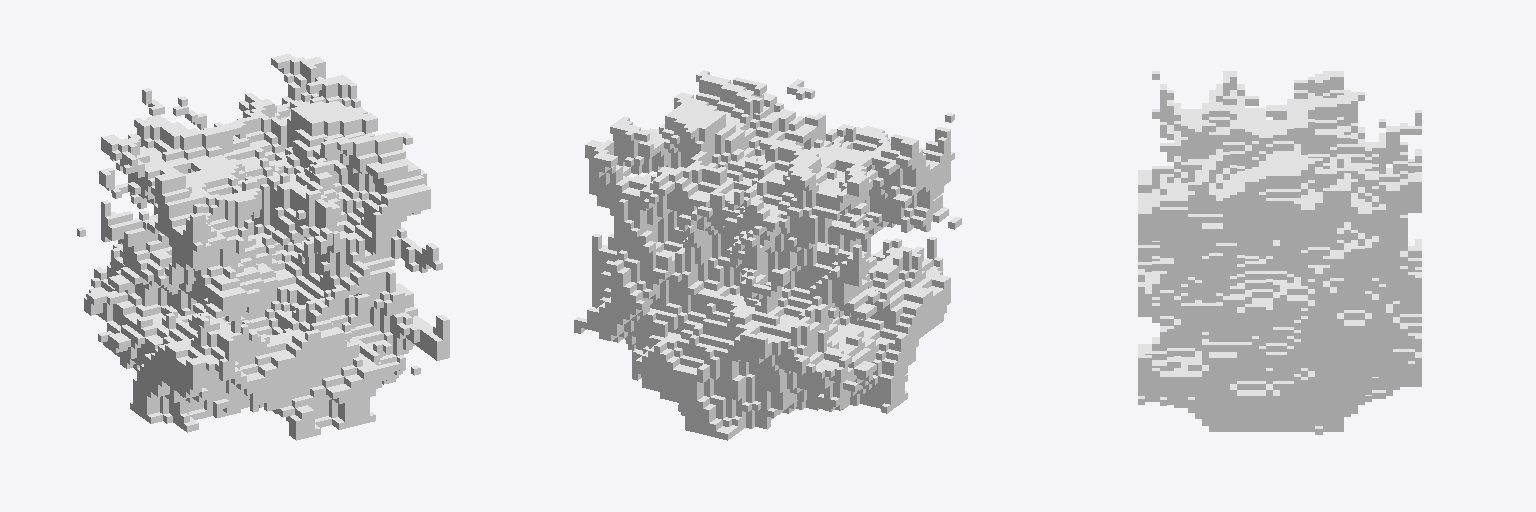
The model's file is Fire4.obj.
3 views of the same model, side by side, from view 1: azimuth 30°, elevation 25°; view 2: azimuth 150°, elevation 25°; view 3: azimuth 270°, elevation 25° (orthographic).
Visible parts, largest first — view 1: object 1; view 2: object 1; view 3: object 1.
Boxes of the visible parts, box(x1,y1,x2,y2) form: object 1: box(77, 53, 449, 440); object 1: box(574, 70, 961, 440); object 1: box(1138, 71, 1421, 434).
Bounding box in the file's own units: 4 × 3.9 × 4.